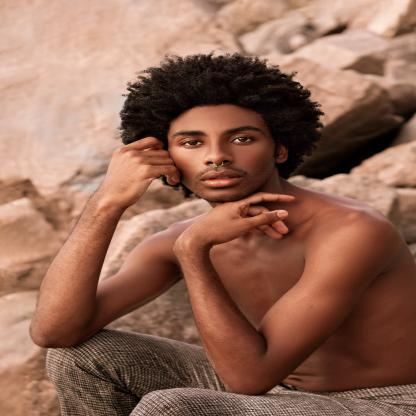Eye: (226, 134, 259, 145), (176, 138, 207, 148)
Mouth: (198, 169, 246, 187)
Nose: (201, 142, 234, 167)
